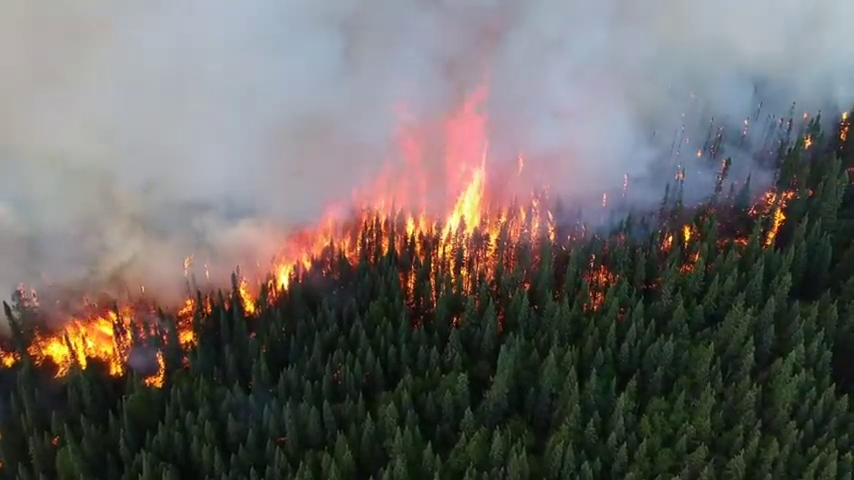forest_fire: (230, 87, 554, 315), (25, 302, 160, 375), (749, 189, 794, 245), (170, 294, 208, 347), (660, 225, 697, 270), (584, 258, 614, 308), (145, 350, 164, 386), (0, 350, 19, 365), (19, 287, 33, 300), (514, 155, 523, 174), (401, 275, 412, 288), (840, 116, 846, 135), (185, 257, 191, 273), (624, 180, 625, 182), (736, 239, 737, 240)
